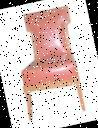Silla: (7, 5, 91, 123)
